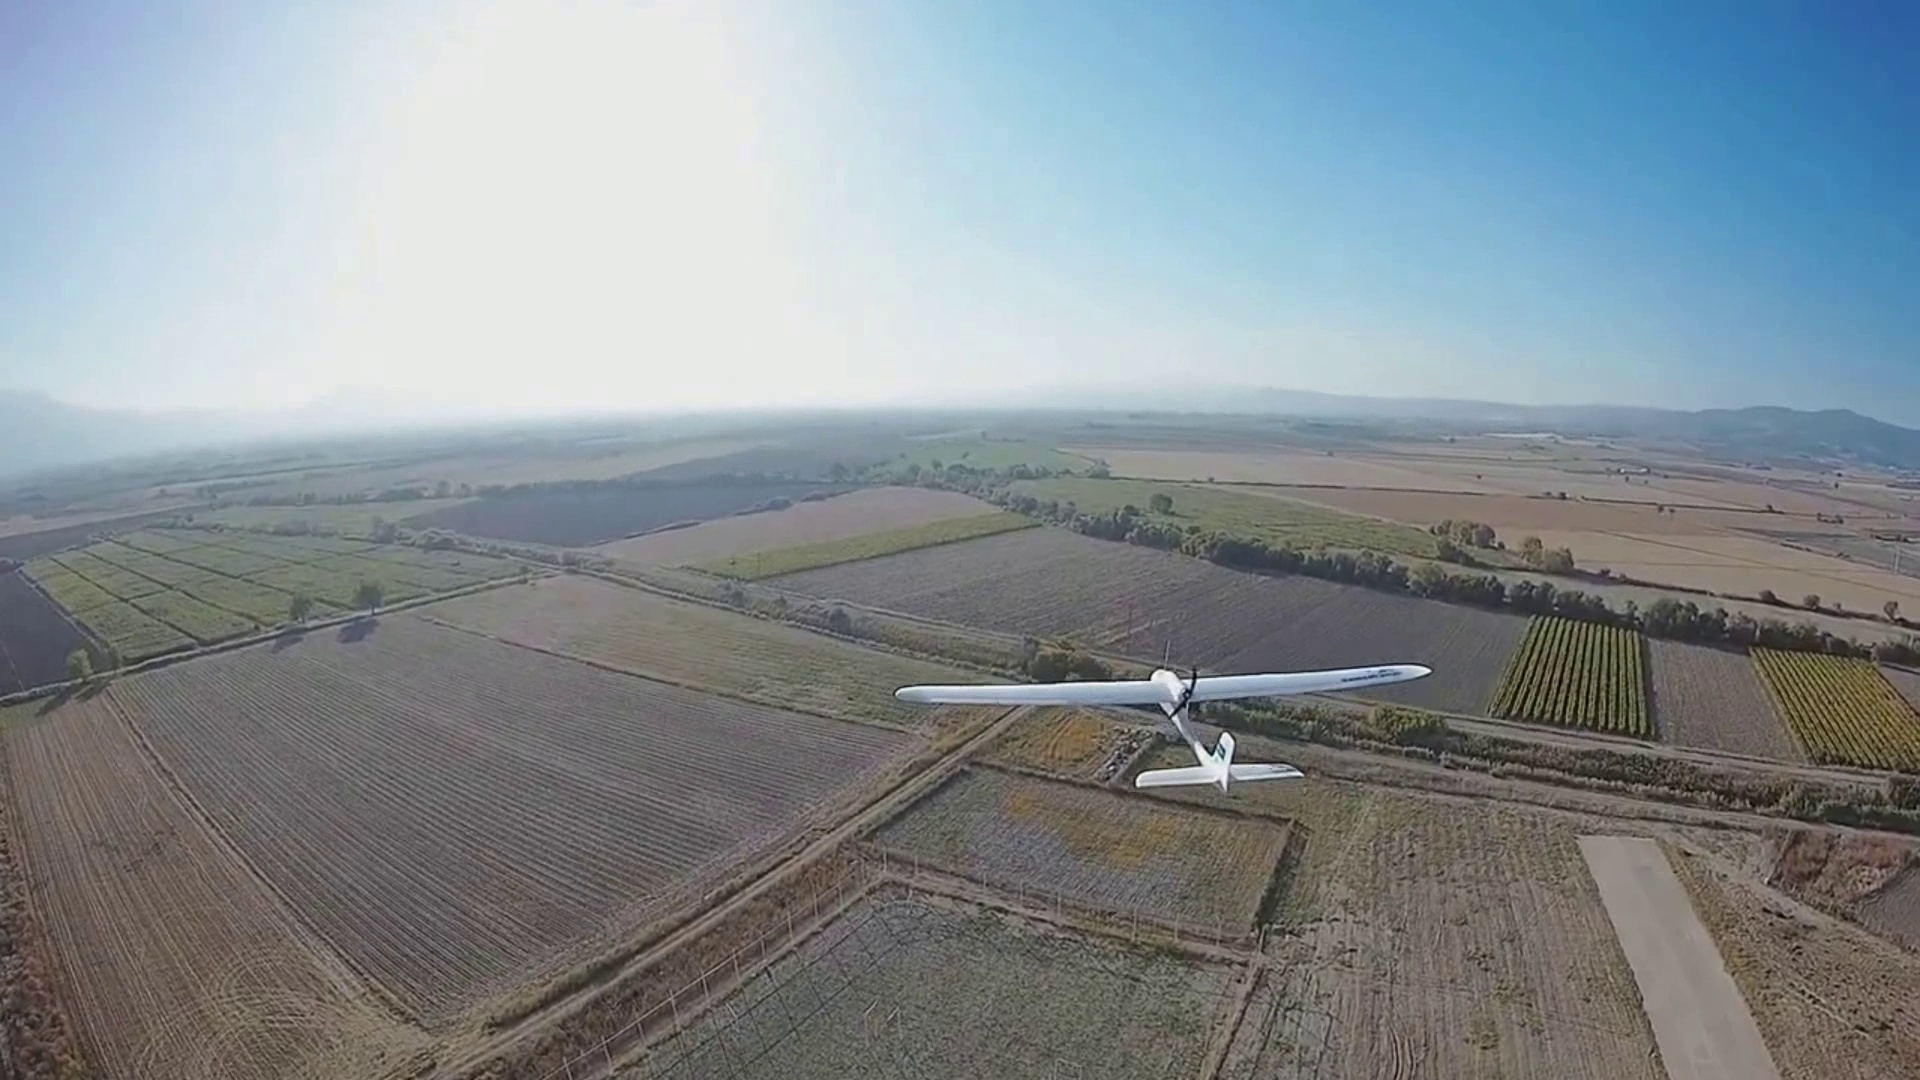airplane: (891, 661, 1433, 796)
